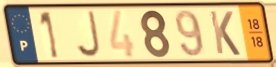1: (38, 10, 61, 60)
4: (108, 9, 138, 60)
8: (139, 8, 172, 60)
9: (173, 9, 206, 59)
J: (74, 10, 102, 60)
K: (207, 9, 242, 57)
